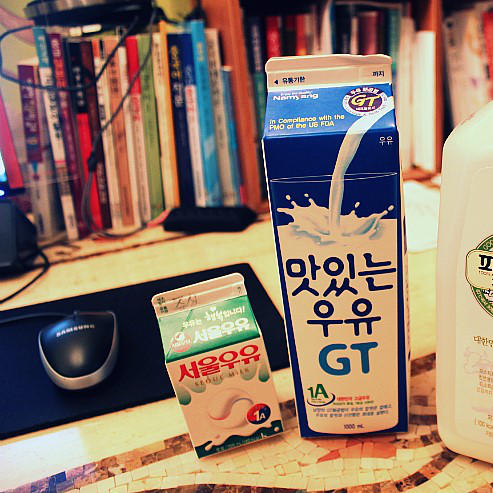milk: (262, 55, 416, 437), (151, 272, 285, 458), (437, 100, 493, 467)
